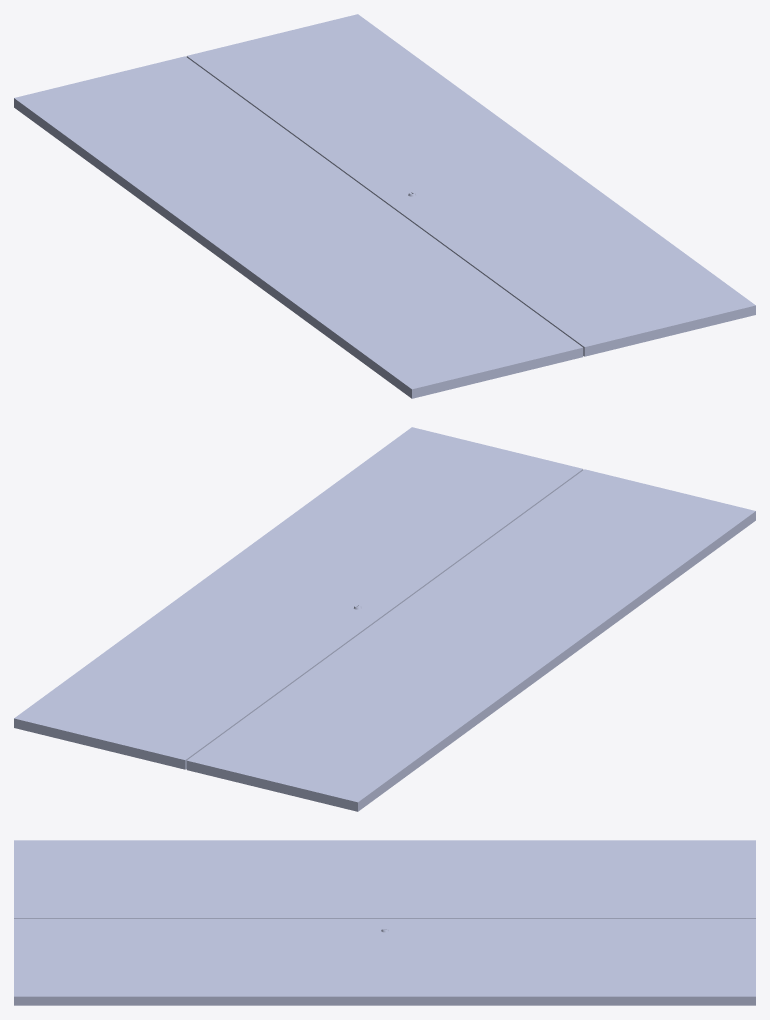
File: Door Tall cabinet - 40in..fbx
3 renders of one model, top to bottom at view 1: azimuth 30°, elevation 25°; view 2: azimuth 150°, elevation 25°; view 3: azimuth 270°, elevation 25°, orthographic. The views are drawn at different scales.
Visible parts, largest first — view 1: Body_2, Body_1; view 2: Body_2, Body_1; view 3: Body_1, Body_2.
Part boxes in pixels (x1,y1,x2,y2): Body_2: (14, 56, 583, 398); Body_1: (186, 14, 755, 356); Body_2: (186, 469, 755, 811); Body_1: (14, 427, 583, 769); Body_1: (14, 919, 755, 1005); Body_2: (14, 840, 755, 918).
Bounding box in the file's own units: 0.9612 × 1.93 × 0.0305.
